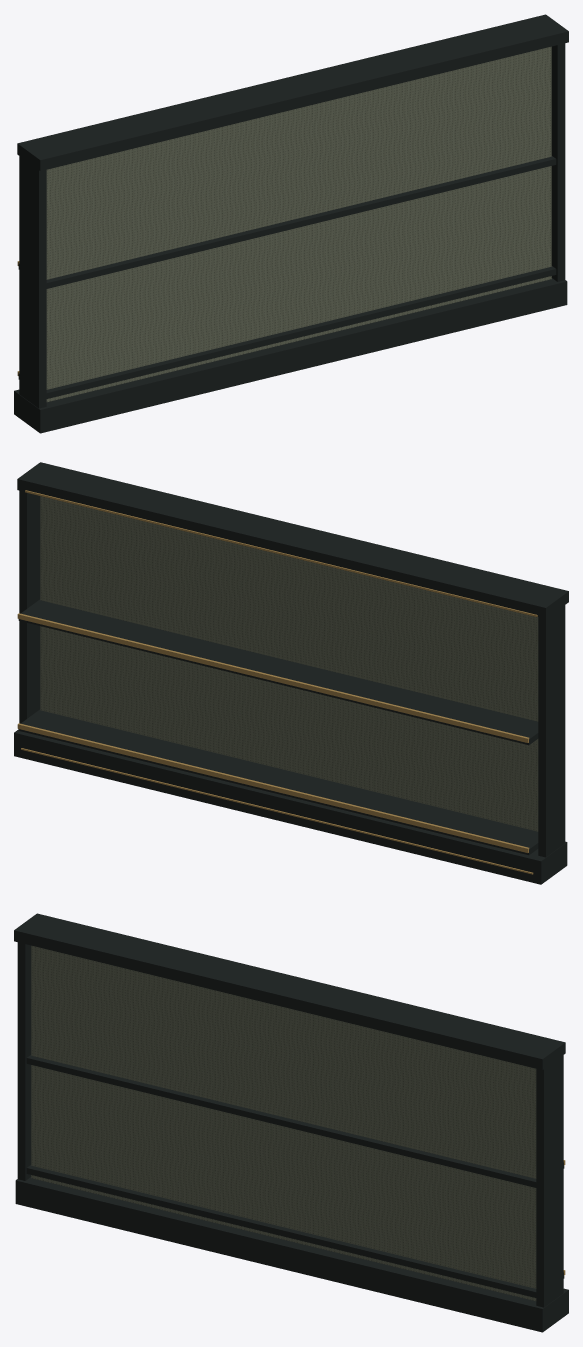
Rendered from display_shelf.glb.
3 views of the same model, one above another, from view 1: azimuth 30°, elevation 25°; view 2: azimuth 150°, elevation 25°; view 3: azimuth 330°, elevation 25° (orthographic).
Parts seen in each view (by area): view 1: Pegboard_back.001, Top_canopy.001, Heavy_plinth.001, Oak_side.002, Display_ledge.001, Display_ledge, Oak_side.003; view 2: Pegboard_back.001, Top_canopy.001, Heavy_plinth.001, Display_ledge, Display_ledge.001, Oak_side.002, Oak_side.003, Ledge_lip, Ledge_lip.001, Brass_top_edge, Base_trim; view 3: Pegboard_back.001, Top_canopy.001, Heavy_plinth.001, Oak_side.003, Display_ledge.001, Display_ledge, Oak_side.002.
Boxes of the visible parts, x1,y1,x2,y2 form: Pegboard_back.001: (46, 46, 551, 402); Top_canopy.001: (17, 14, 568, 171); Heavy_plinth.001: (14, 278, 567, 433); Oak_side.002: (19, 156, 46, 408); Display_ledge.001: (18, 156, 556, 288); Display_ledge: (18, 266, 556, 398); Oak_side.003: (551, 43, 565, 281); Pegboard_back.001: (40, 496, 538, 831); Top_canopy.001: (17, 462, 568, 618); Heavy_plinth.001: (14, 729, 567, 884); Display_ledge: (18, 709, 538, 855); Display_ledge.001: (18, 599, 538, 745); Oak_side.002: (538, 605, 565, 857); Oak_side.003: (19, 490, 40, 723); Ledge_lip: (17, 723, 529, 852); Ledge_lip.001: (17, 613, 529, 742); Brass_top_edge: (25, 490, 537, 616); Base_trim: (21, 748, 533, 874); Pegboard_back.001: (31, 945, 536, 1301); Top_canopy.001: (14, 913, 565, 1070); Heavy_plinth.001: (15, 1177, 568, 1332); Oak_side.003: (536, 1055, 563, 1307); Display_ledge.001: (26, 1055, 564, 1187); Display_ledge: (26, 1165, 564, 1297); Oak_side.002: (17, 942, 31, 1180).
Size of the model in its own units: 7.54 by 3.74 by 0.7875.
3 materials, 1 textured.
